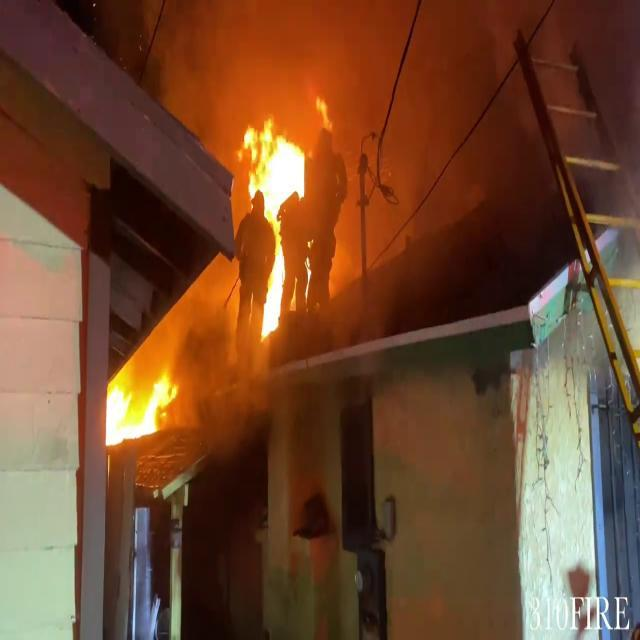Fire: (240, 102, 332, 342), (100, 354, 176, 450)
